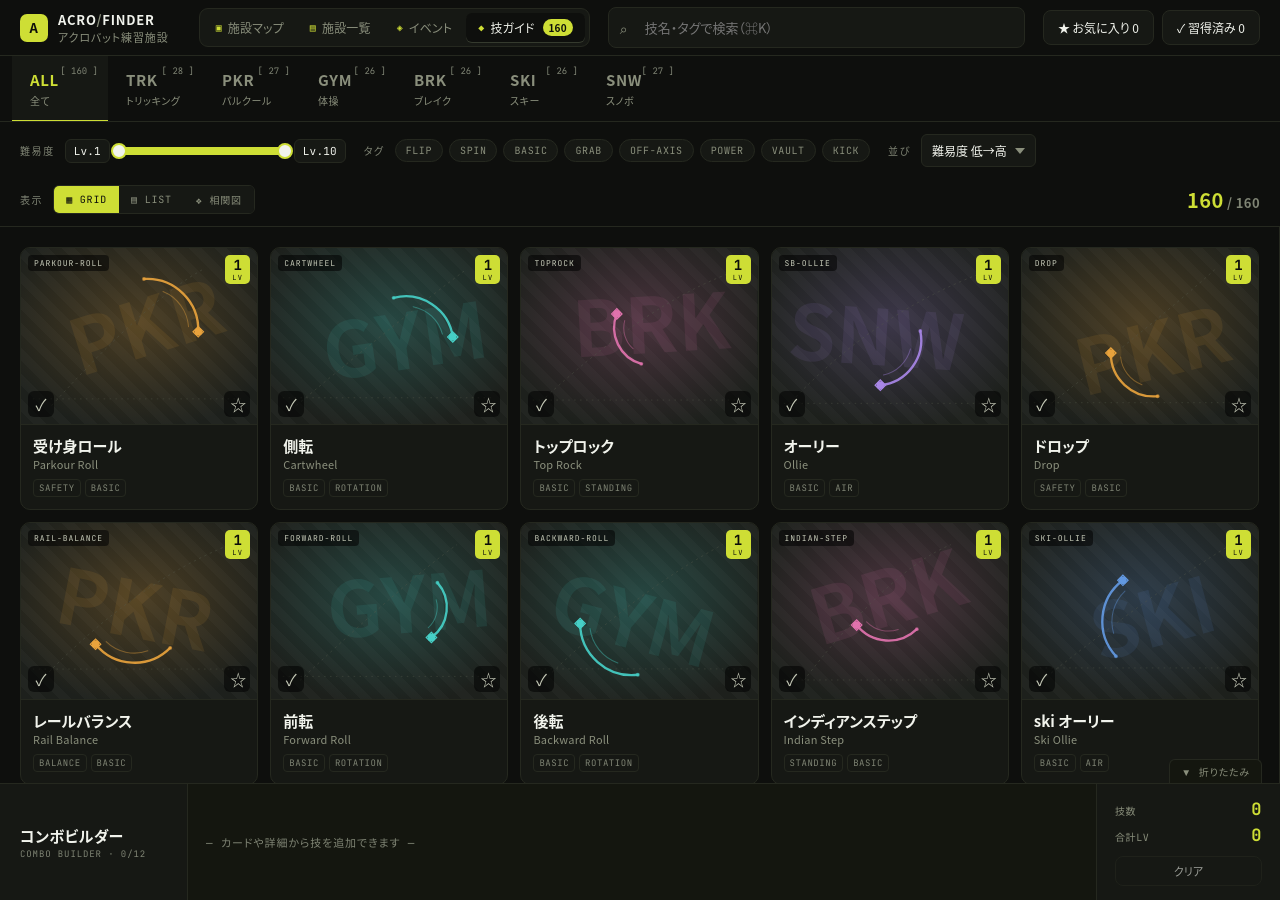
Test: SkillsApp › filters cards by search query
This screenshot has width=1280, height=900.
Type "windmill" into the field with placeholder "技名・タグで検索（⌘K）" at (816, 28), box [608,7,1025,48]
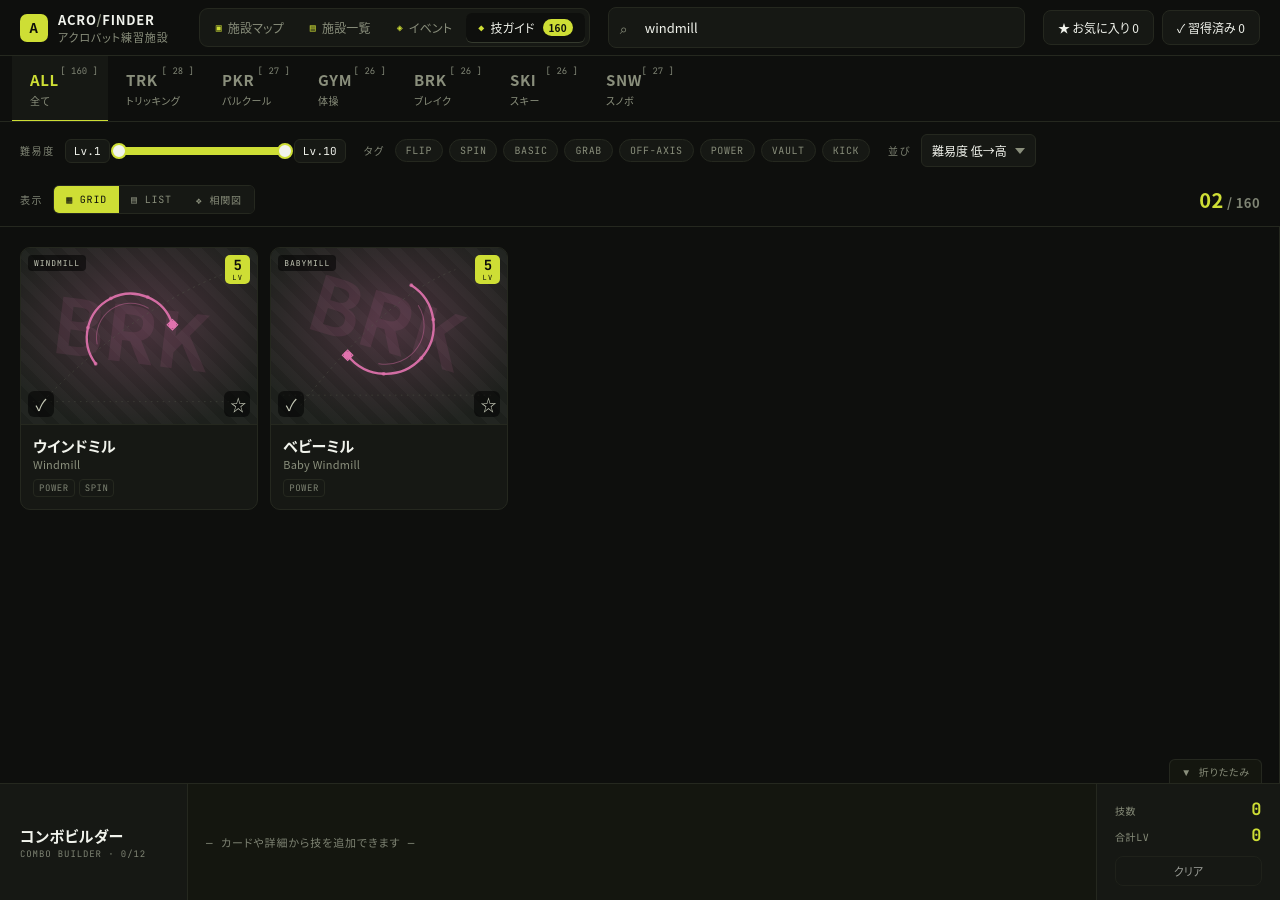
Expected: the element with class "skl-card" that starts with "BRK" is shown, [20,247,258,510]
